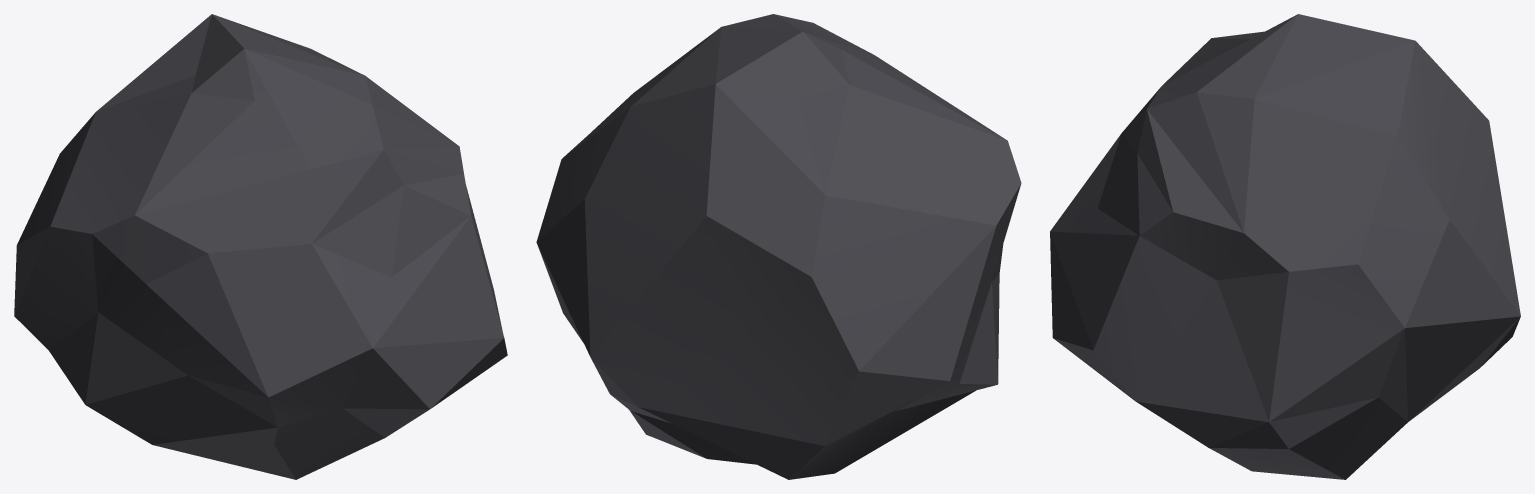
File: Environment_Rock4.fbx
The picture shows the model from 3 angles, left to right: view 1: azimuth 30°, elevation 25°; view 2: azimuth 150°, elevation 25°; view 3: azimuth 270°, elevation 25°; orthographic projection. The views are drawn at different scales.
Visible parts, largest first — view 1: Rock004; view 2: Rock004; view 3: Rock004.
Boxes of the visible parts, x1,y1,x2,y2 form: Rock004: (14,14,507,479); Rock004: (536,14,1021,479); Rock004: (1050,14,1520,479).
Size of the model in its own units: 257 by 244 by 238.
